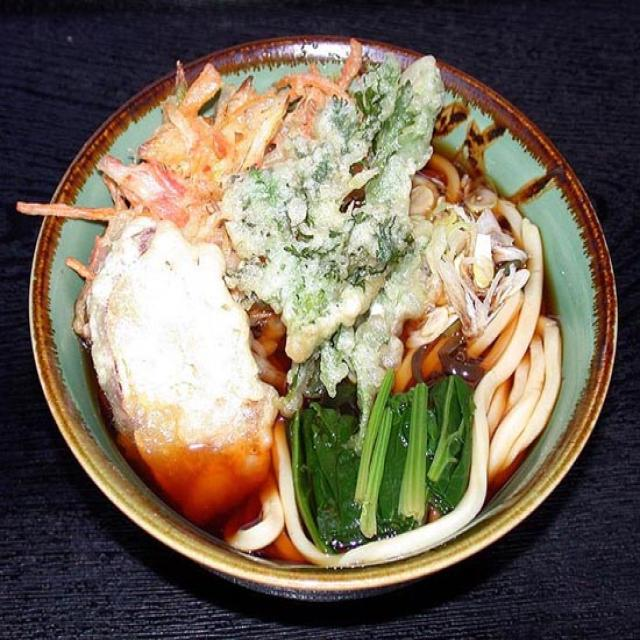面条主食: (69, 53, 564, 575)
